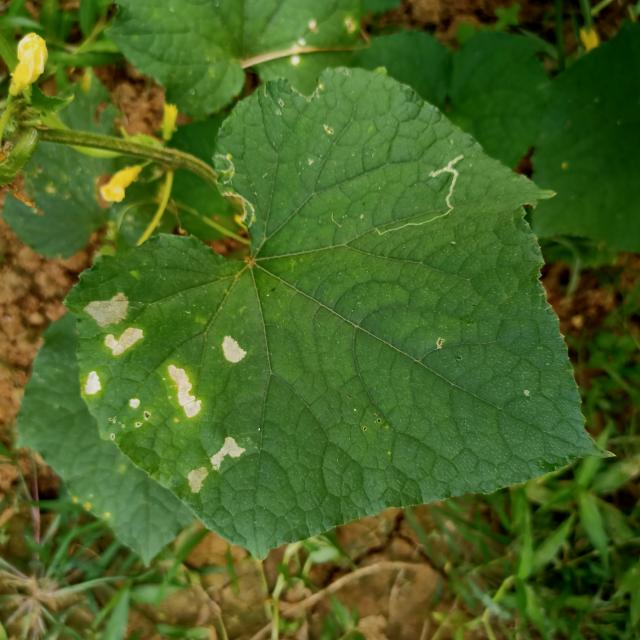disease_cucumber: (68, 291, 146, 403), (123, 359, 207, 434), (179, 431, 249, 502), (216, 331, 250, 371)
